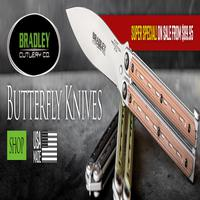knife: (63, 7, 200, 162)
